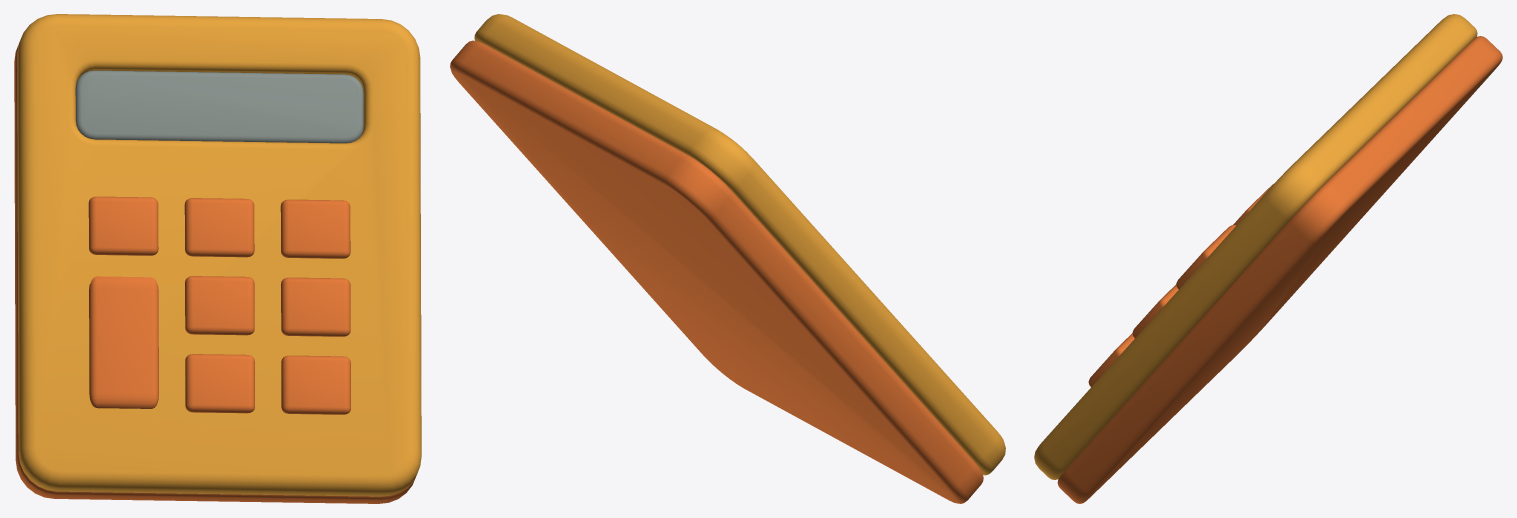
The model's file is calculator.glb.
3 views of the same model, side by side, from view 1: azimuth 30°, elevation 25°; view 2: azimuth 150°, elevation 25°; view 3: azimuth 270°, elevation 25° (orthographic). The views are drawn at different scales.
Parts seen in each view (by area): view 1: Cube.012, Cube.020, Cube.013, Cube.011; view 2: Cube.011, Cube.012; view 3: Cube.011, Cube.012, Cube.020.
Boxes of the visible parts, x1,y1,x2,y2 form: Cube.012: (17,14,421,496); Cube.020: (88,196,350,414); Cube.013: (75,70,363,143); Cube.011: (14,46,416,503); Cube.011: (450,40,983,503); Cube.012: (474,14,1005,475); Cube.011: (1057,36,1502,503); Cube.012: (1034,14,1477,479); Cube.020: (1088,184,1273,386).
Bounding box in the file's own units: 5.92 × 5.09 × 5.31.
